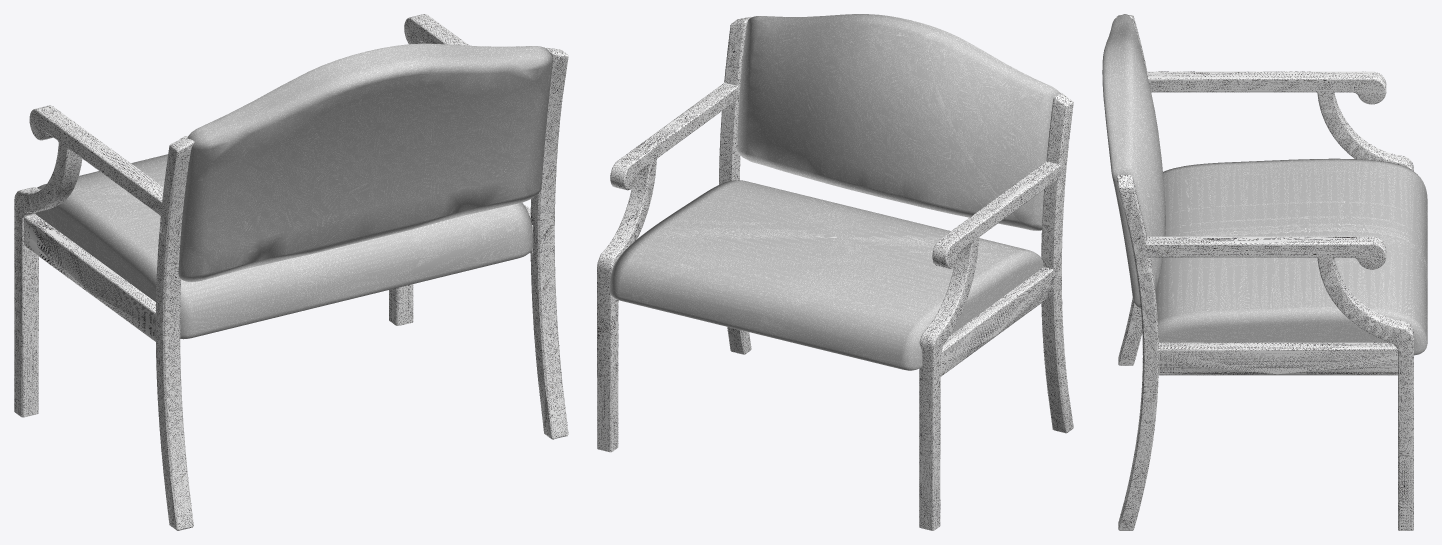
3 views of the same model, side by side, from view 1: azimuth 30°, elevation 25°; view 2: azimuth 150°, elevation 25°; view 3: azimuth 270°, elevation 25° (orthographic). The views are drawn at different scales.
Parts seen in each view (by area): view 1: mesh3_mesh3-geometry, mesh2_mesh2-geometry, mesh9_mesh9-geometry, mesh1_mesh1-geometry, mesh8_mesh8-geometry, mesh5_mesh5-geometry, mesh7_mesh7-geometry, mesh6_mesh6-geometry; view 2: mesh3_mesh3-geometry, mesh2_mesh2-geometry, mesh1_mesh1-geometry, mesh9_mesh9-geometry, mesh6_mesh6-geometry, mesh8_mesh8-geometry, mesh7_mesh7-geometry, mesh5_mesh5-geometry; view 3: mesh1_mesh1-geometry, mesh2_mesh2-geometry, mesh6_mesh6-geometry, mesh3_mesh3-geometry, mesh4_mesh4-geometry, mesh9_mesh9-geometry, mesh5_mesh5-geometry, mesh8_mesh8-geometry.
Part boxes in pixels (x1,y1,x2,y2): mesh3_mesh3-geometry: (178, 43, 552, 281); mesh2_mesh2-geometry: (35, 154, 357, 339); mesh9_mesh9-geometry: (14, 105, 163, 417); mesh1_mesh1-geometry: (346, 202, 533, 297); mesh8_mesh8-geometry: (155, 136, 194, 530); mesh5_mesh5-geometry: (530, 47, 568, 439); mesh7_mesh7-geometry: (24, 214, 155, 341); mesh6_mesh6-geometry: (389, 14, 469, 325); mesh3_mesh3-geometry: (737, 14, 1059, 230); mesh2_mesh2-geometry: (760, 215, 1043, 370); mesh1_mesh1-geometry: (609, 180, 885, 334); mesh9_mesh9-geometry: (919, 161, 1060, 530); mesh6_mesh6-geometry: (597, 82, 738, 452); mesh8_mesh8-geometry: (1041, 92, 1073, 433); mesh7_mesh7-geometry: (940, 267, 1053, 376); mesh5_mesh5-geometry: (719, 16, 751, 354); mesh1_mesh1-geometry: (1155, 234, 1427, 355); mesh2_mesh2-geometry: (1163, 158, 1427, 270); mesh6_mesh6-geometry: (1146, 236, 1413, 530); mesh3_mesh3-geometry: (1102, 14, 1165, 307); mesh4_mesh4-geometry: (1158, 342, 1397, 375); mesh9_mesh9-geometry: (1147, 71, 1413, 171); mesh5_mesh5-geometry: (1116, 175, 1158, 530); mesh8_mesh8-geometry: (1117, 15, 1147, 365).
Size of the model in its own units: 0.6056 by 0.6335 by 0.4816.
